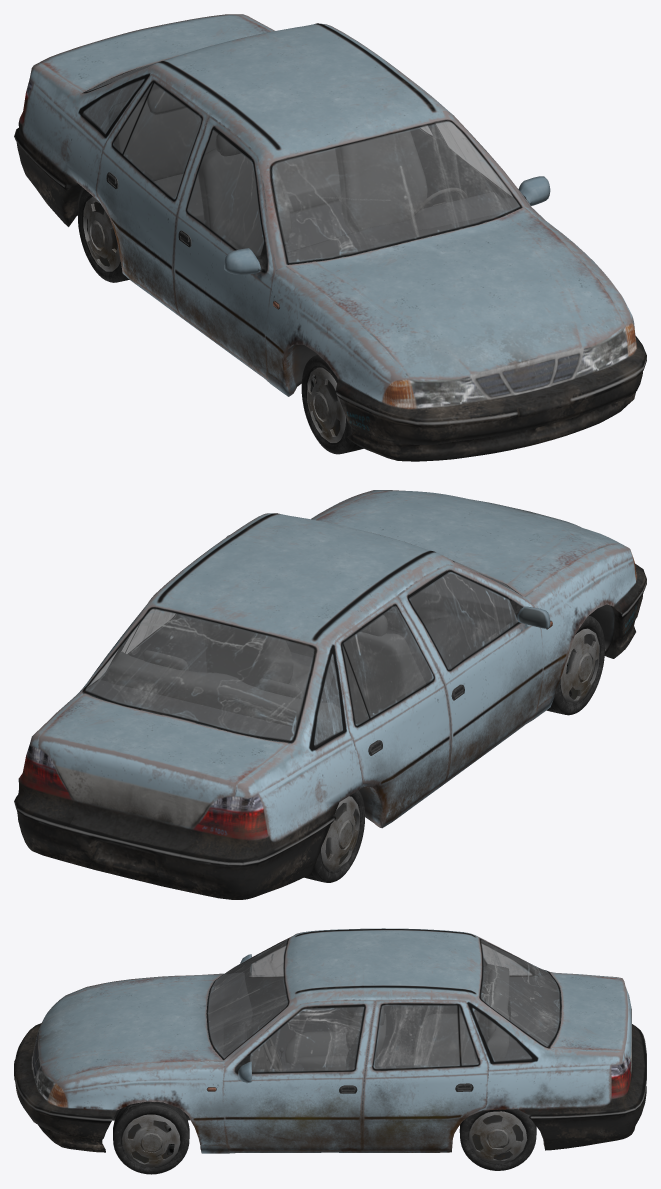
Rendered from car1 (1).glb.
3 renders of one model, top to bottom at view 1: azimuth 30°, elevation 25°; view 2: azimuth 150°, elevation 25°; view 3: azimuth 270°, elevation 25°, orthographic. The views are drawn at different scales.
Parts seen in each view (by area): view 1: Plane_Material_0, Cube.001_chair2_0, Plane.004_interior_0, Cube.012_chair back2_0, Plane.001_panel_0, Cube.009_chair back1_0, Cylinder.007_disk_0, Cylinder.006_wheel_0, Cube.002_chair3_0; view 2: Plane_Material_0, Cube.001_chair2_0, Plane.004_interior_0, Cube.012_chair back2_0, Plane.001_panel_0, Cylinder.007_disk_0, Cylinder.006_wheel_0, Cube.002_chair3_0; view 3: Plane_Material_0, Plane.004_interior_0, Cylinder.007_disk_0, Cylinder.006_wheel_0, Cube.009_chair back1_0, Plane.001_panel_0, Cube_chair1_0, Cube.012_chair back2_0, Cube.001_chair2_0, Cube.002_chair3_0, Cylinder.001_wheel panel_0.
Boxes of the visible parts, bbox=[...] form: Plane_Material_0: bbox=[14, 14, 646, 461]; Cube.001_chair2_0: bbox=[198, 130, 427, 256]; Plane.004_interior_0: bbox=[82, 63, 517, 259]; Cube.012_chair back2_0: bbox=[108, 96, 217, 181]; Plane.001_panel_0: bbox=[287, 192, 519, 262]; Cube.009_chair back1_0: bbox=[154, 148, 340, 223]; Cylinder.007_disk_0: bbox=[83, 196, 345, 442]; Cylinder.006_wheel_0: bbox=[78, 189, 363, 454]; Cube.002_chair3_0: bbox=[147, 87, 240, 156]; Plane_Material_0: bbox=[14, 490, 646, 899]; Cube.001_chair2_0: bbox=[200, 619, 425, 724]; Plane.004_interior_0: bbox=[86, 573, 512, 747]; Cube.012_chair back2_0: bbox=[108, 652, 341, 735]; Plane.001_panel_0: bbox=[326, 577, 516, 707]; Cylinder.007_disk_0: bbox=[321, 628, 599, 871]; Cylinder.006_wheel_0: bbox=[304, 615, 604, 882]; Cube.002_chair3_0: bbox=[142, 615, 387, 698]; Plane_Material_0: bbox=[14, 928, 646, 1153]; Plane.004_interior_0: bbox=[208, 939, 559, 1068]; Cylinder.007_disk_0: bbox=[122, 1111, 527, 1166]; Cylinder.006_wheel_0: bbox=[113, 1101, 536, 1174]; Cube.009_chair back1_0: bbox=[412, 1011, 478, 1067]; Plane.001_panel_0: bbox=[223, 972, 305, 1071]; Cube_chair1_0: bbox=[285, 1031, 348, 1071]; Cube.012_chair back2_0: bbox=[474, 964, 509, 1063]; Cube.001_chair2_0: bbox=[346, 1006, 386, 1070]; Cube.002_chair3_0: bbox=[379, 968, 496, 1038]; Cylinder.001_wheel panel_0: bbox=[250, 1045, 270, 1072].
Bounding box in the file's own units: 2.59 × 1.76 × 5.84.
17 materials, 6 textured.
